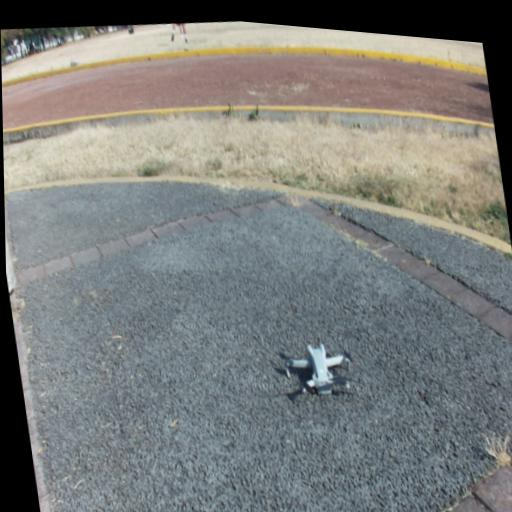drones: (275, 332, 360, 415)
